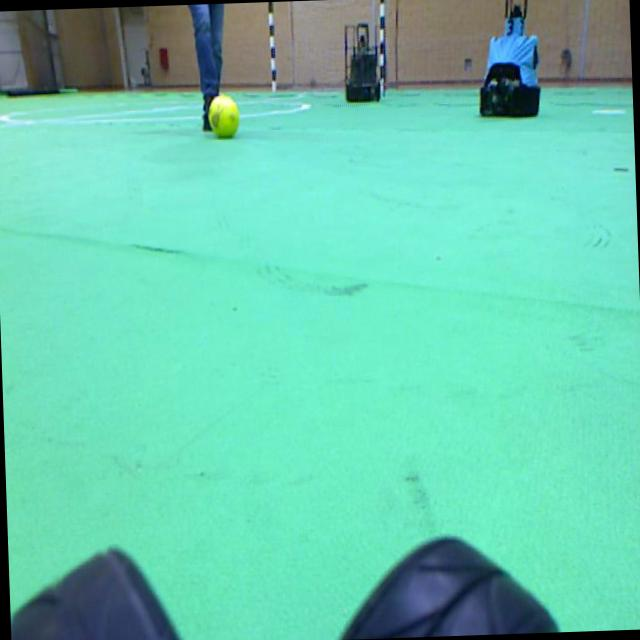ball: (209, 94, 238, 137)
robot: (344, 22, 379, 100)
